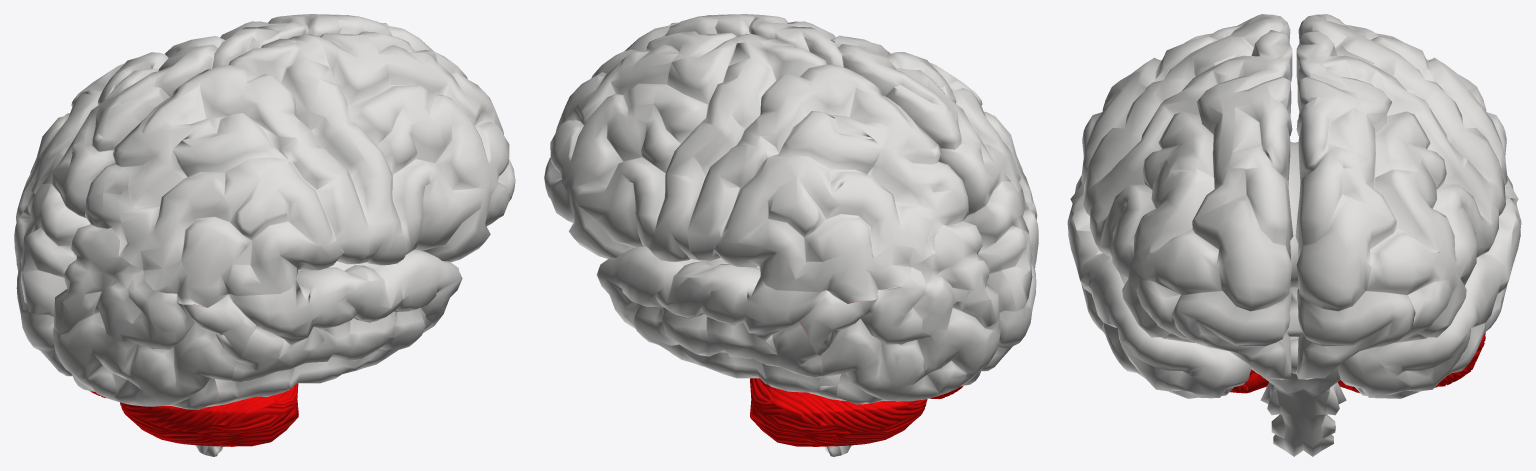
File: brain.glb
The picture shows the model from 3 angles, left to right: view 1: azimuth 30°, elevation 25°; view 2: azimuth 150°, elevation 25°; view 3: azimuth 270°, elevation 25°; orthographic projection. The views are drawn at different scales.
Visible parts, largest first — view 1: Material2 (×5); view 2: Material2 (×5); view 3: Material2 (×6).
Boxes of the visible parts, x1,y1,x2,y2 form: Material2 (×5): [14, 14, 515, 446]; Material2 (×5): [544, 14, 1038, 446]; Material2 (×6): [1067, 14, 1521, 456].
Bounding box in the file's own units: 6.42 × 5.62 × 5.28.
